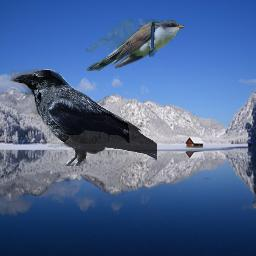Crow: (10, 69, 157, 166)
Cuckoo: (85, 19, 184, 71)
